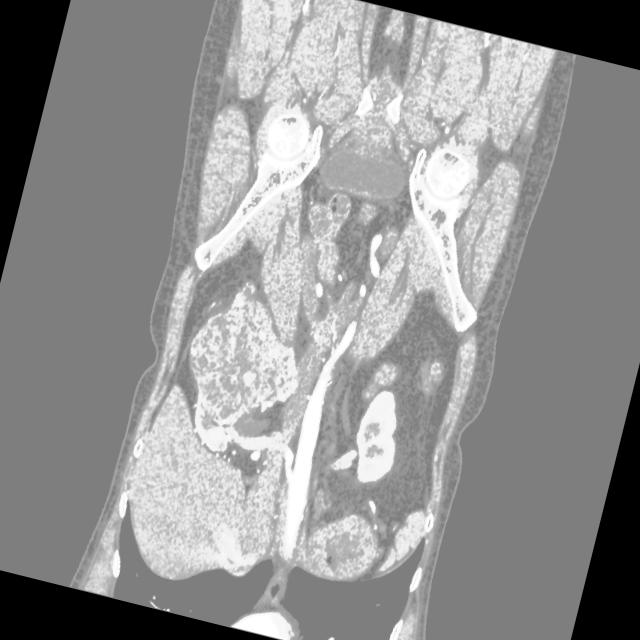TUMOR: (104, 239, 569, 527)
